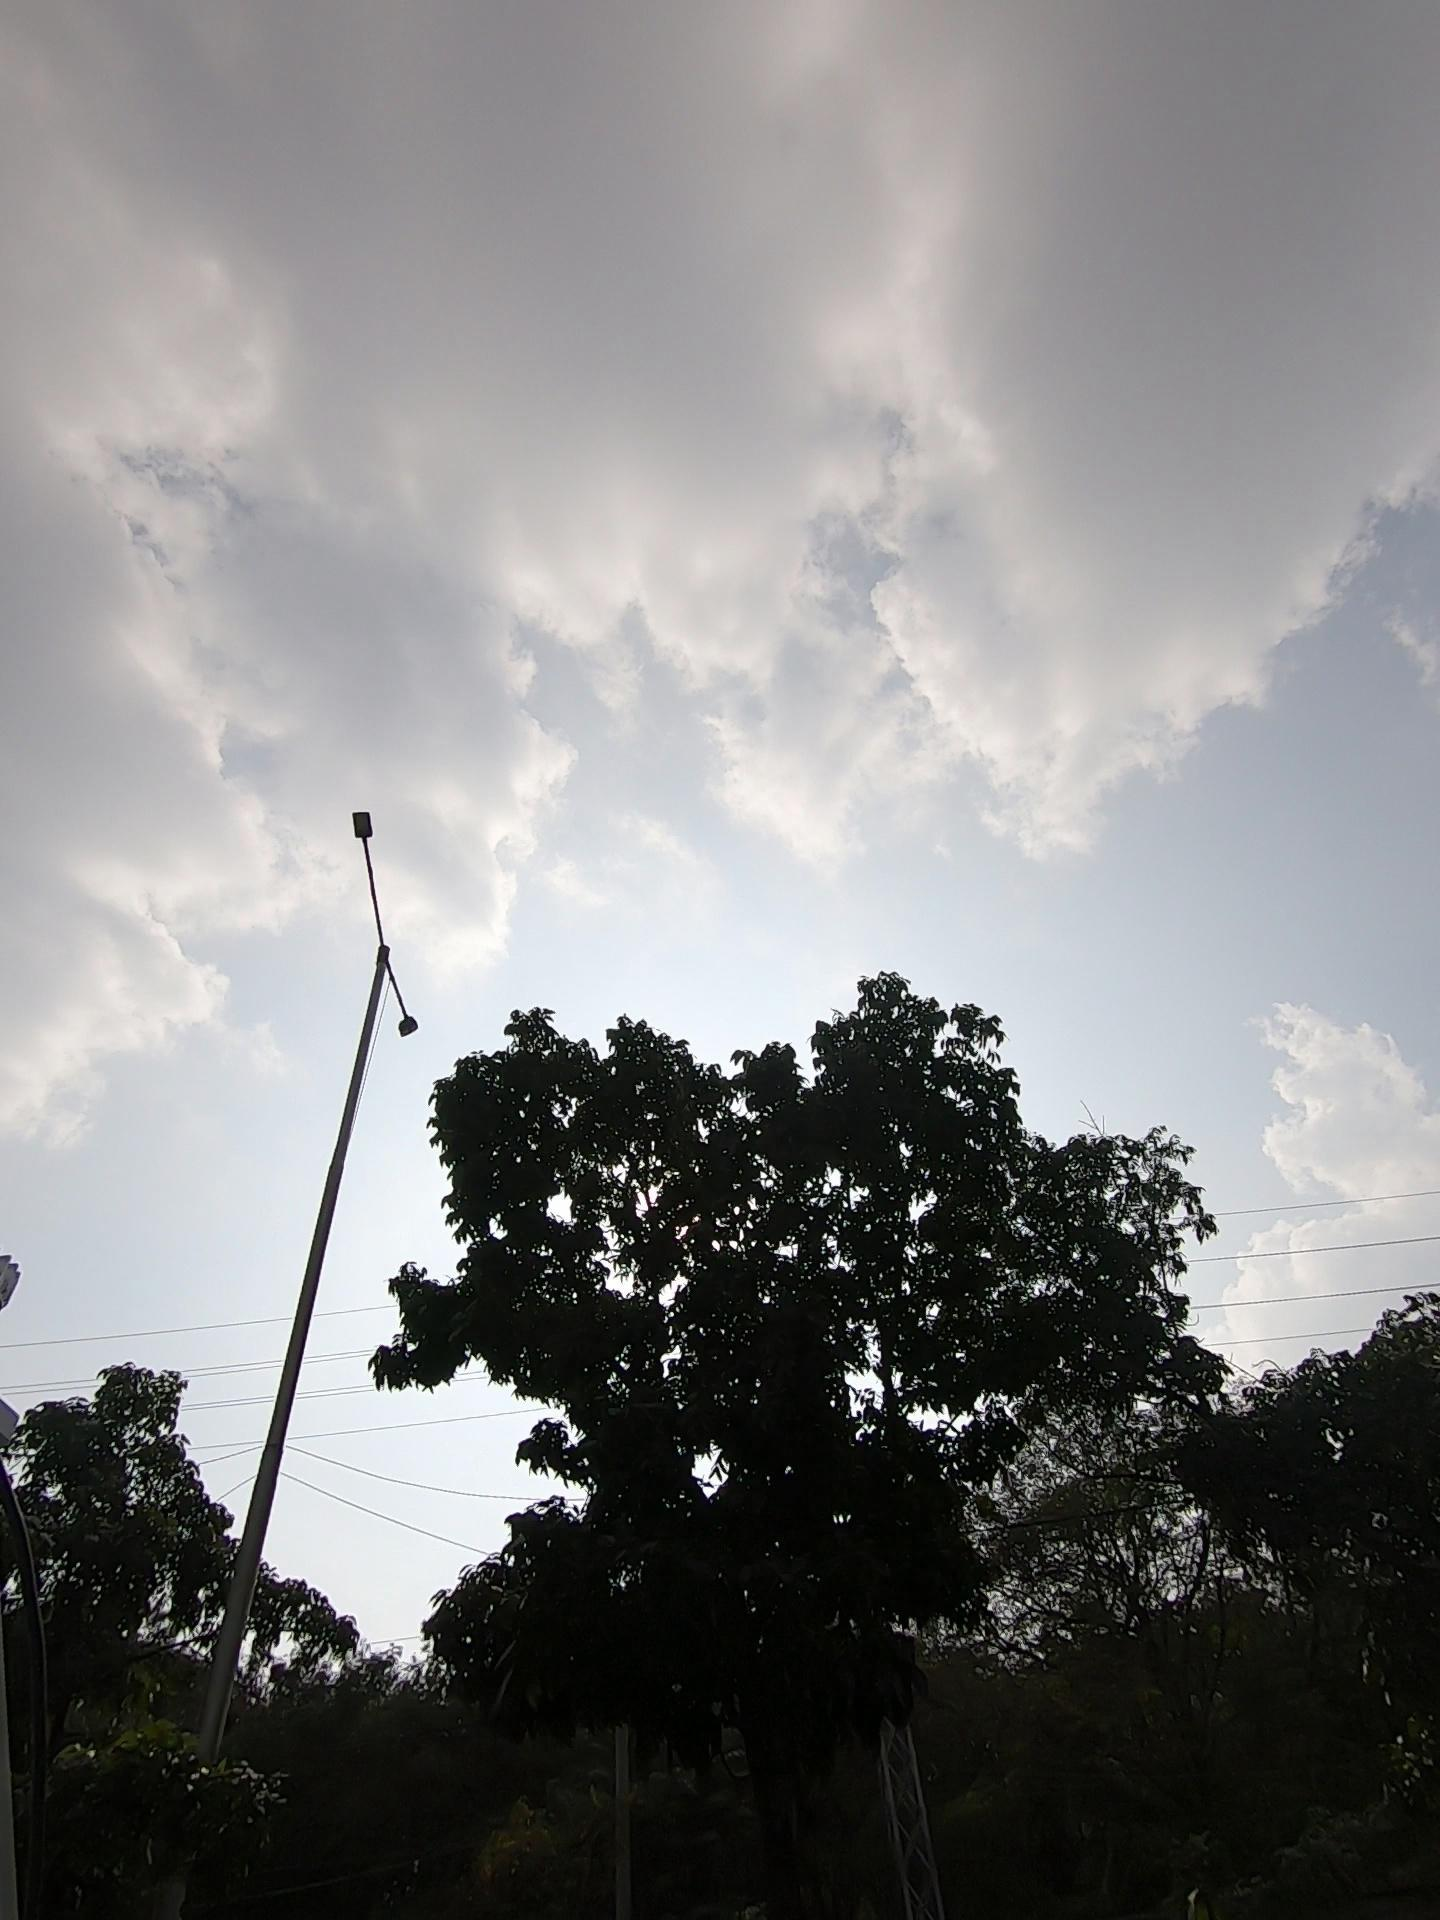off: (219, 766, 560, 1108)
